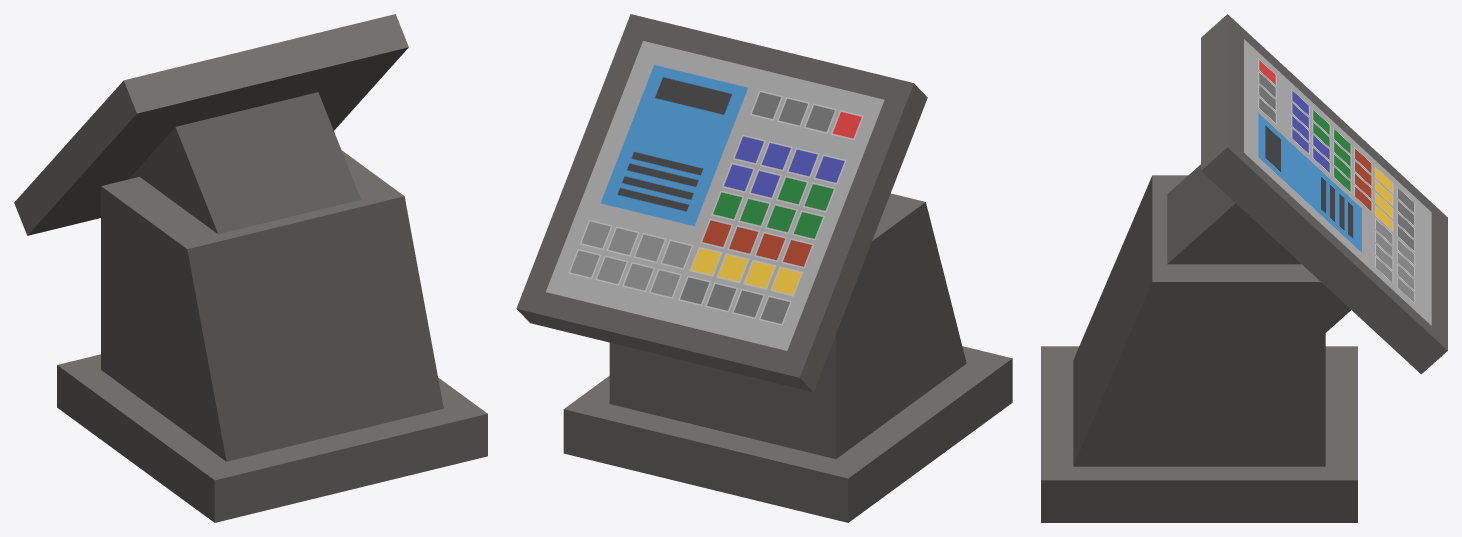
The model's file is EletronicRegister.glb.
The picture shows the model from 3 angles, left to right: view 1: azimuth 30°, elevation 25°; view 2: azimuth 150°, elevation 25°; view 3: azimuth 270°, elevation 25°; orthographic projection. The views are drawn at different scales.
Parts seen in each view (by area): view 1: SI_Prop_ElectronicRegister_01; view 2: SI_Prop_ElectronicRegister_01; view 3: SI_Prop_ElectronicRegister_01.
Part boxes in pixels (<box>): SI_Prop_ElectronicRegister_01: <box>14,14,487,522</box>; SI_Prop_ElectronicRegister_01: <box>516,14,1012,522</box>; SI_Prop_ElectronicRegister_01: <box>1041,14,1447,522</box>.
Bounding box in the file's own units: 0.00869 × 0.0114 × 0.0111.
1 material, 1 textured.
